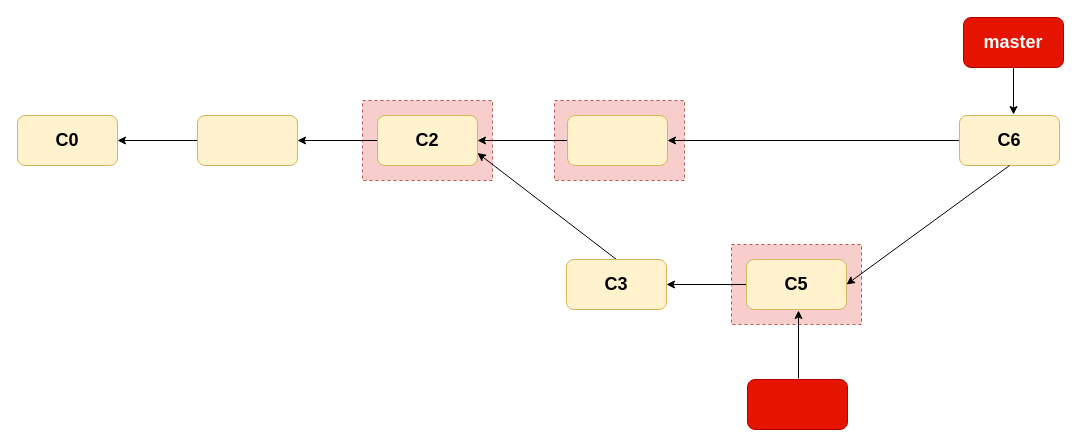
This 1081x447 diagram has some shape labels left out. The box of each missing label's shape, as (x1, y1, x2, y2) in pixels:
C1: (196, 114, 298, 166)
C4: (566, 114, 668, 166)
feature: (746, 378, 848, 430)
